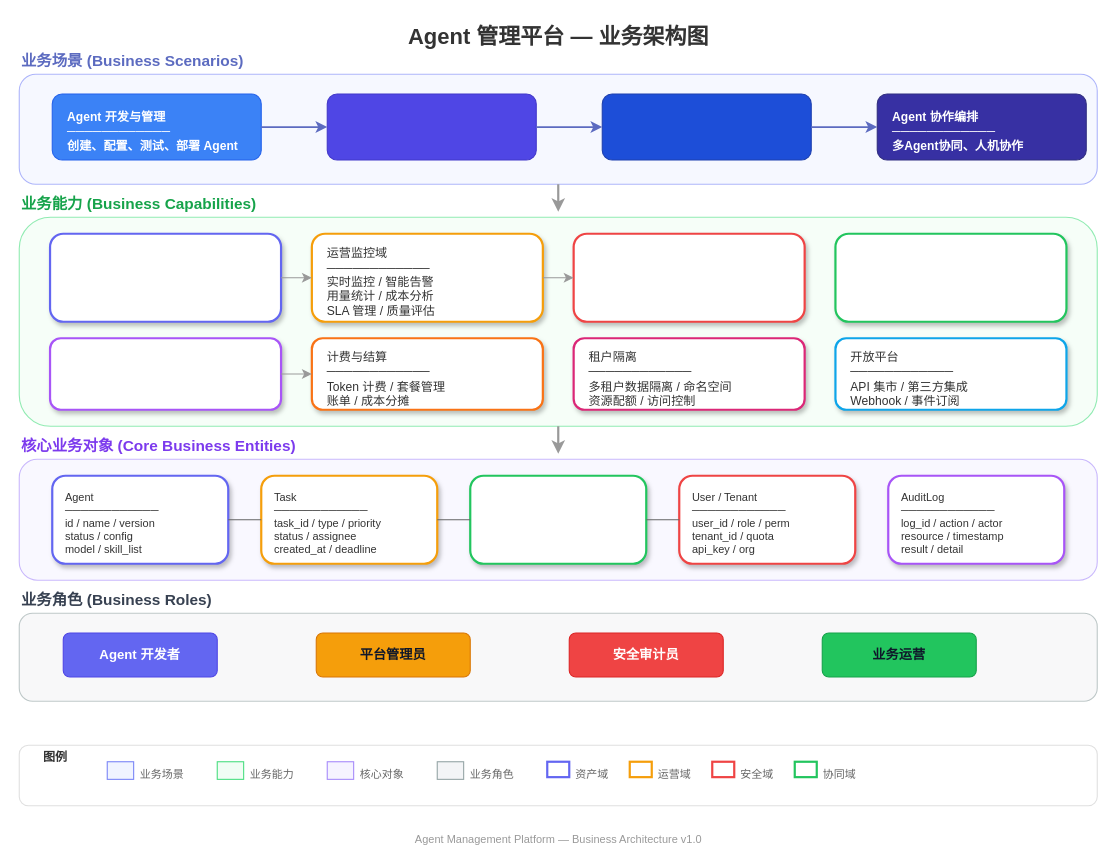
This 1117x868 diagram has some shape labels left out. Each missing label, with the centre of its shape:
"Agent 任务调度 ──────────── 批量任务编排、优先级调度" goes at point (431, 126).
"Agent 监控运维 ──────────── 实时监控、告警、故障排查" goes at point (706, 126).
"Agent 资产域 ──────────── Agent 注册 / 发现 / 版本 Skill 市场 / 能力评估 模型管理 / Prompt 版本" goes at point (166, 279).
"Skill ──────────── skill_id / name / type version / author parameters / runtime" goes at point (558, 521).
"协同编排域 ──────────── 多Agent 工作流 / 管线 任务拆分 / 结果聚合 人机协作 / 审批流" goes at point (951, 279).
"安全合规域 ──────────── RBAC 权限 / API Key 鉴权 审计日志 / 数据脱敏 安全策略 / 合规审查" goes at point (690, 279).
"知识管理 ──────────── 知识库构建 / 检索增强 长期记忆 / 经验沉淀" goes at point (166, 375).
